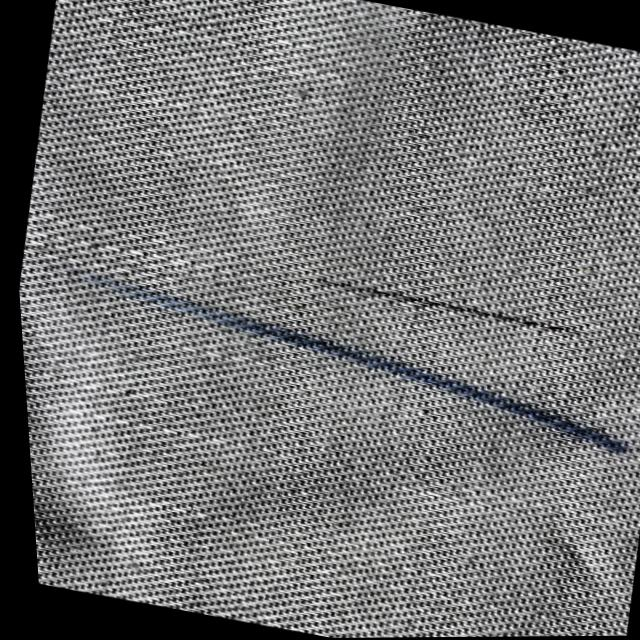Stitch: (288, 257, 572, 354)
